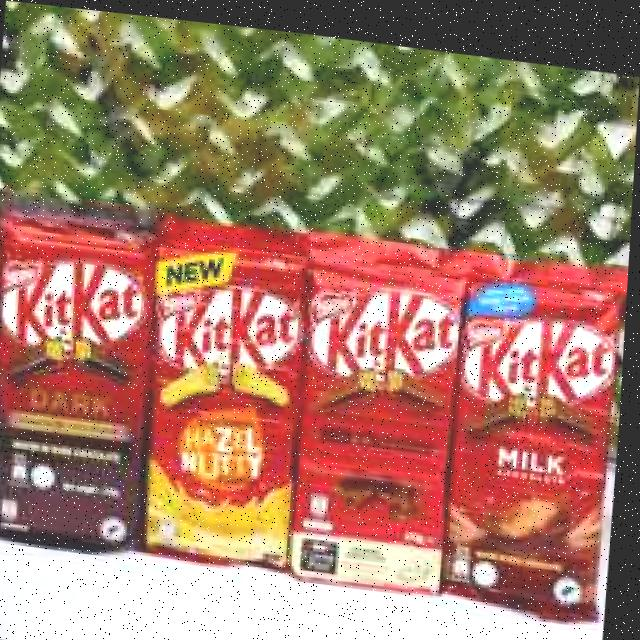kitkat: (291, 217, 474, 588), (443, 235, 624, 609), (141, 207, 317, 568), (0, 191, 169, 550)
